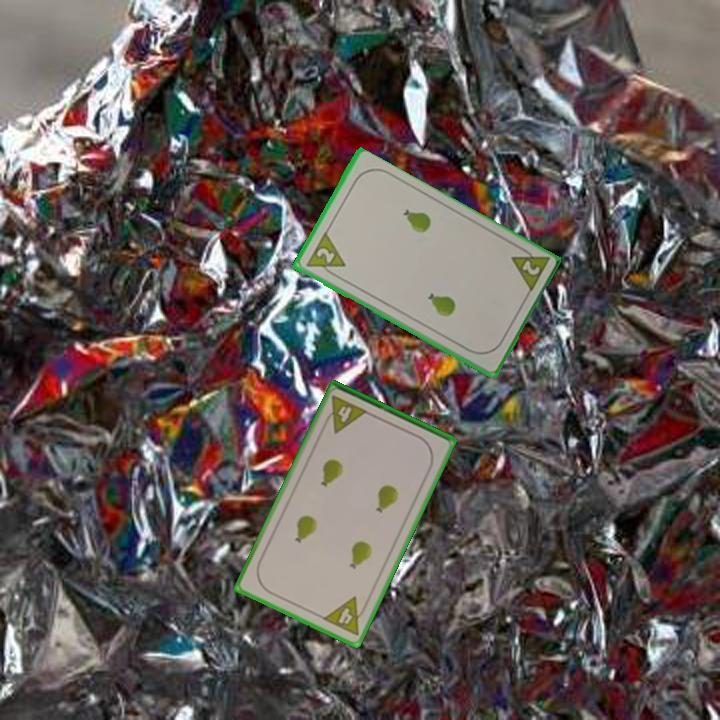2p: (507, 241, 552, 296), (302, 230, 348, 281)
4p: (319, 593, 371, 639), (320, 392, 371, 436)
